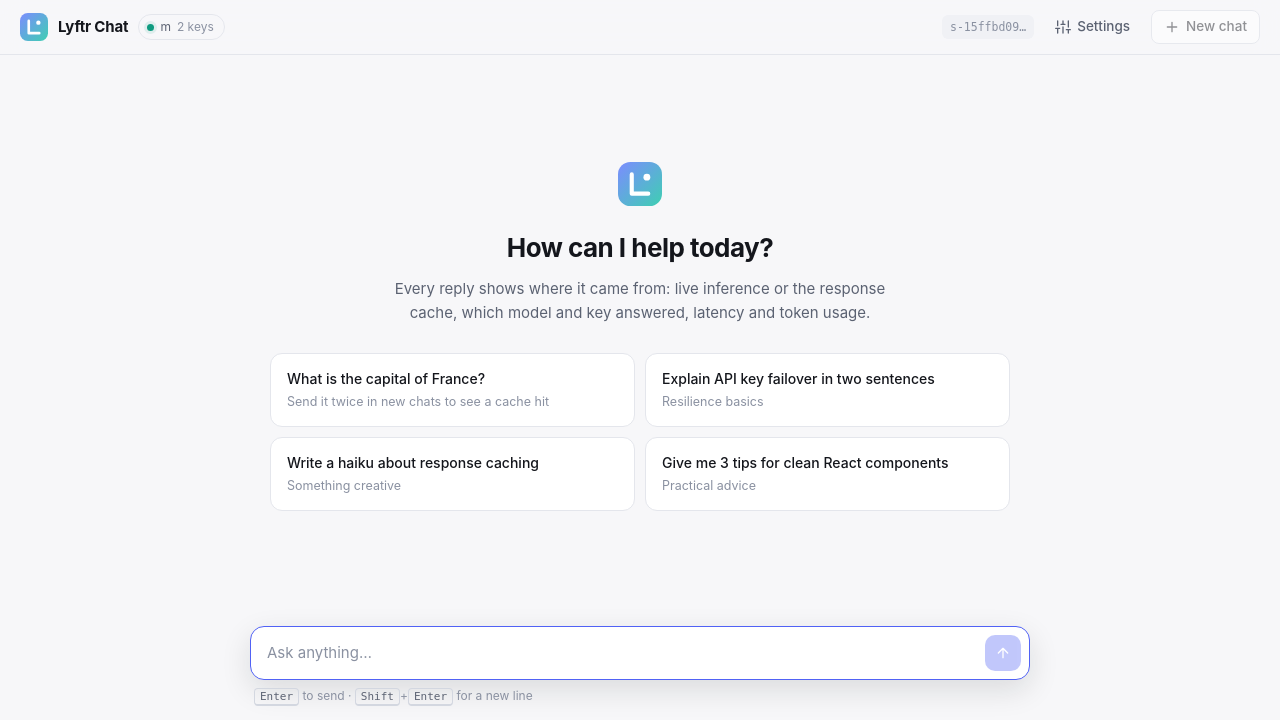
Test: App › shows a network error instead of a blank screen
Type "hi" into the text box with test id "chat-input" at (622, 654), box 267,636 -> 977,671
Then press Enter
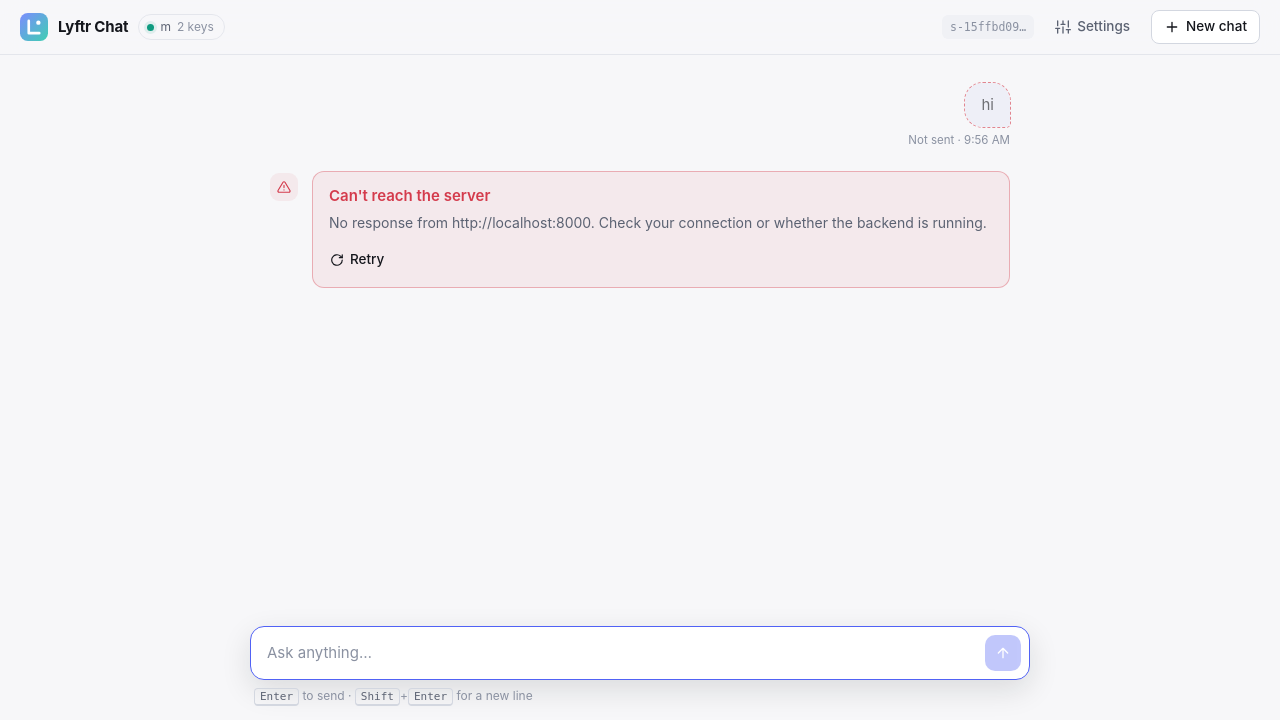
Expected: the message with test id "error-message" shows "Can't reach the server", 329,186 -> 490,205
